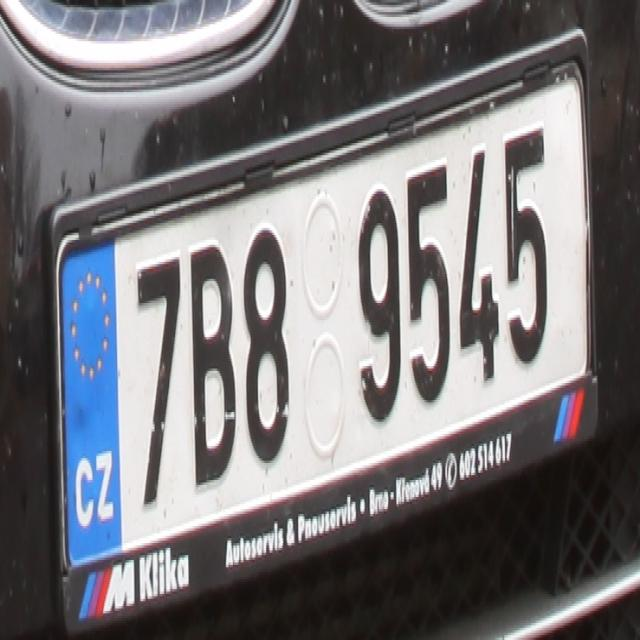4: (456, 136, 504, 388)
5: (501, 126, 551, 364), (407, 160, 451, 405)
7: (132, 257, 180, 514)
8: (242, 221, 294, 463)
9: (359, 182, 402, 424)
B: (188, 235, 236, 483)
